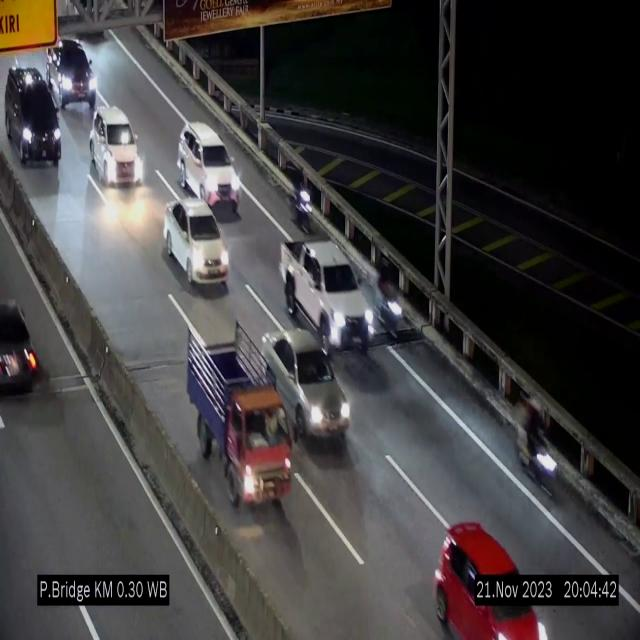Car: (426, 504, 564, 640), (263, 328, 351, 445), (279, 242, 374, 349), (3, 65, 63, 172), (164, 200, 229, 288), (177, 121, 241, 208), (0, 282, 45, 404), (88, 100, 144, 191), (44, 39, 99, 104)
Motorcycle: (515, 391, 561, 504), (377, 260, 404, 346), (290, 172, 318, 239)
Truck: (187, 302, 291, 512)
